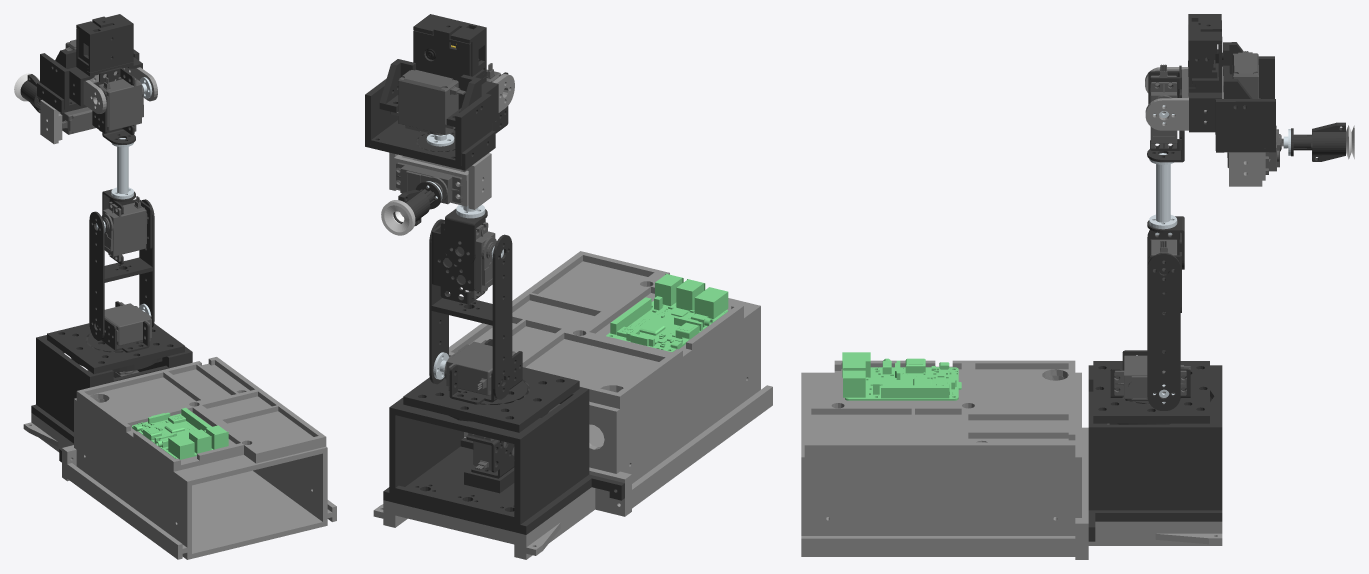
File: RoboticArmWithBaseV2.fbx
3 views of the same model, side by side, from view 1: azimuth 30°, elevation 25°; view 2: azimuth 150°, elevation 25°; view 3: azimuth 270°, elevation 25° (orthographic). The views are drawn at different scales.
Parts seen in each view (by area): view 1: RobotBase, Link4, Link3, Link2, Link1, Link5, Link6; view 2: RobotBase, Link4, Link2, Link3, Link5, Link1, Link6, Servo5; view 3: RobotBase, Link4, Link2, Link3, Link1, Link6, Link5.
Part boxes in pixels (x1,y1,x2,y2): RobotBase: (23, 323, 336, 559); Link4: (37, 14, 157, 113); Link3: (92, 67, 152, 264); Link2: (89, 199, 154, 340); Link1: (96, 301, 151, 352); Link5: (40, 99, 95, 144); Link6: (14, 73, 41, 112); RobotBase: (373, 251, 772, 559); Link4: (365, 14, 514, 170); Link2: (429, 219, 512, 399); Link3: (432, 63, 508, 304); Link5: (389, 152, 491, 209); Link1: (444, 339, 522, 404); Link6: (381, 181, 441, 235); Servo5: (416, 133, 455, 151); RobotBase: (801, 352, 1222, 559); Link4: (1145, 14, 1275, 152); Link2: (1147, 230, 1180, 410); Link3: (1147, 64, 1184, 312); Link1: (1110, 350, 1190, 400); Link6: (1291, 122, 1354, 161); Link5: (1227, 125, 1283, 186).
Bounding box in the file's own units: 17000 × 40685 × 41383.
